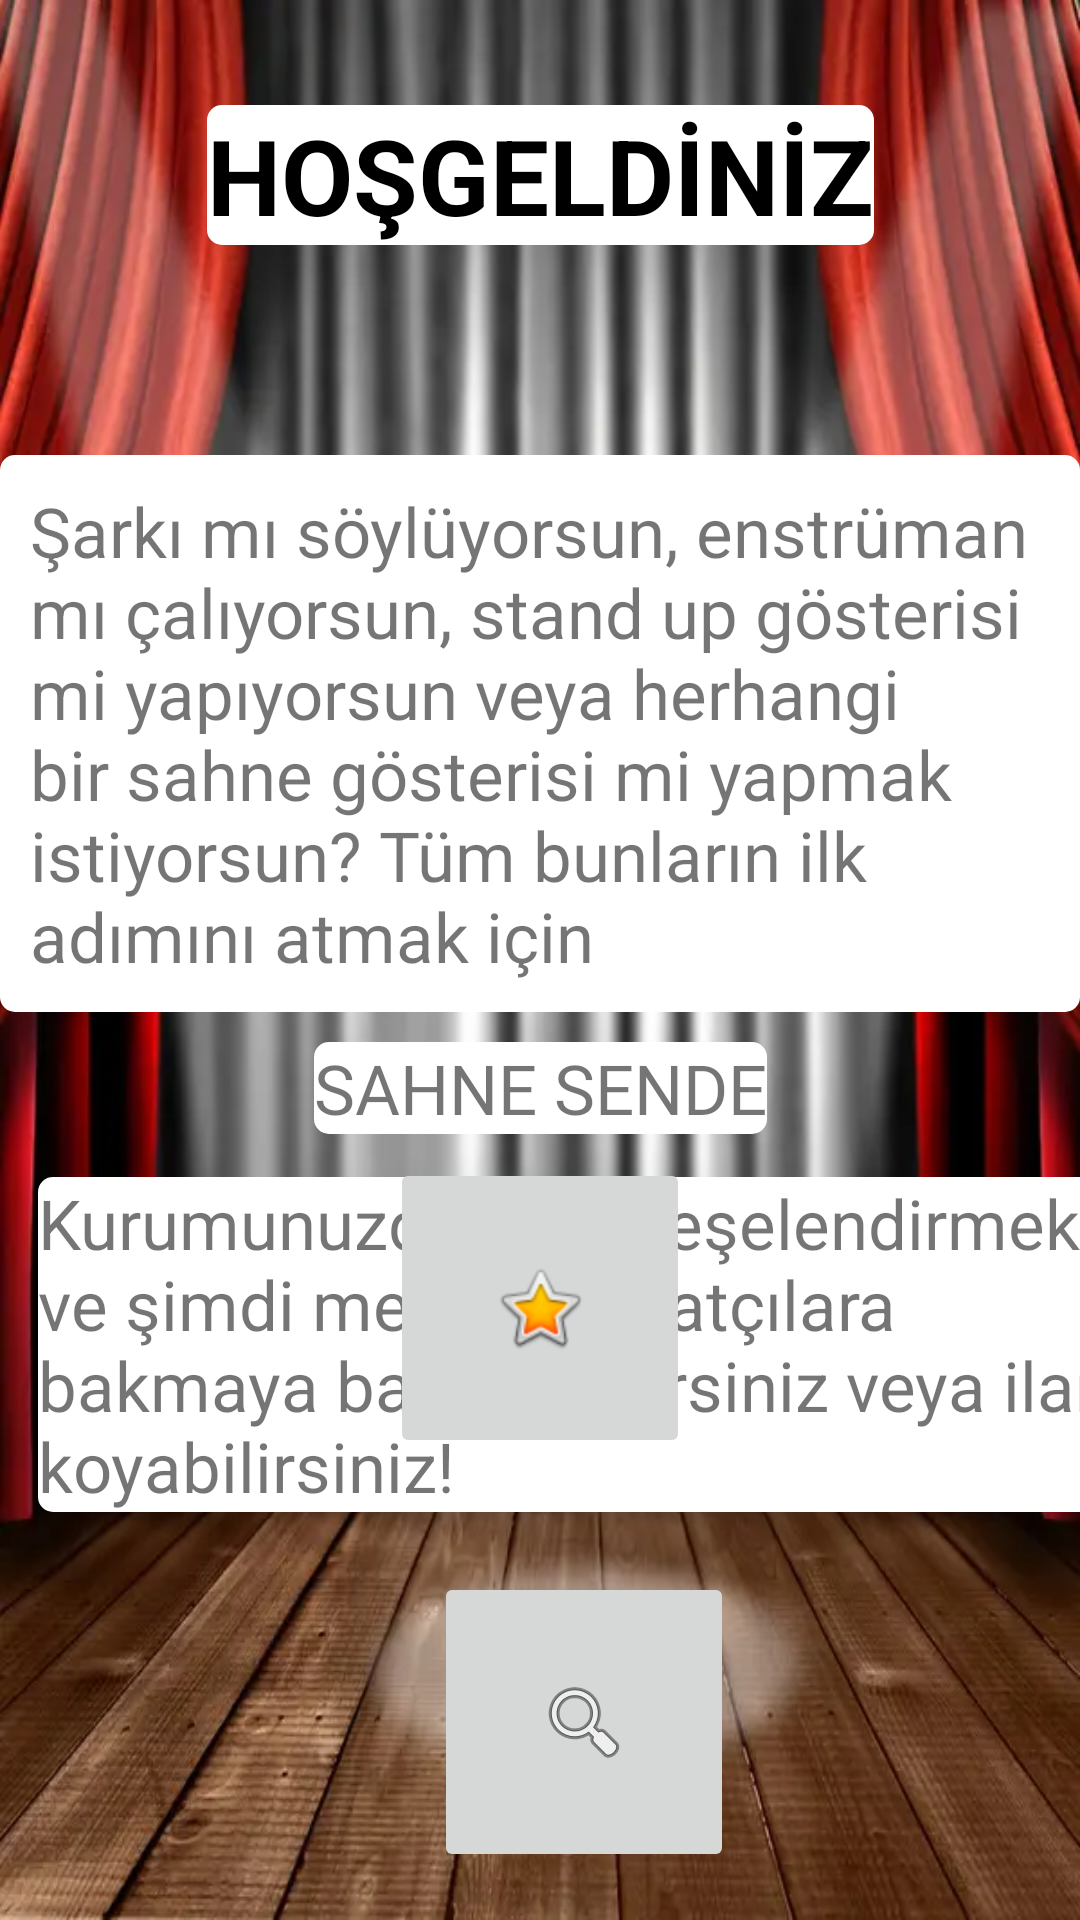

Named icons in this screenshot (1080 × 1920) and their centers, (x,y):
search: (584,1722)
star on: (540,1308)
